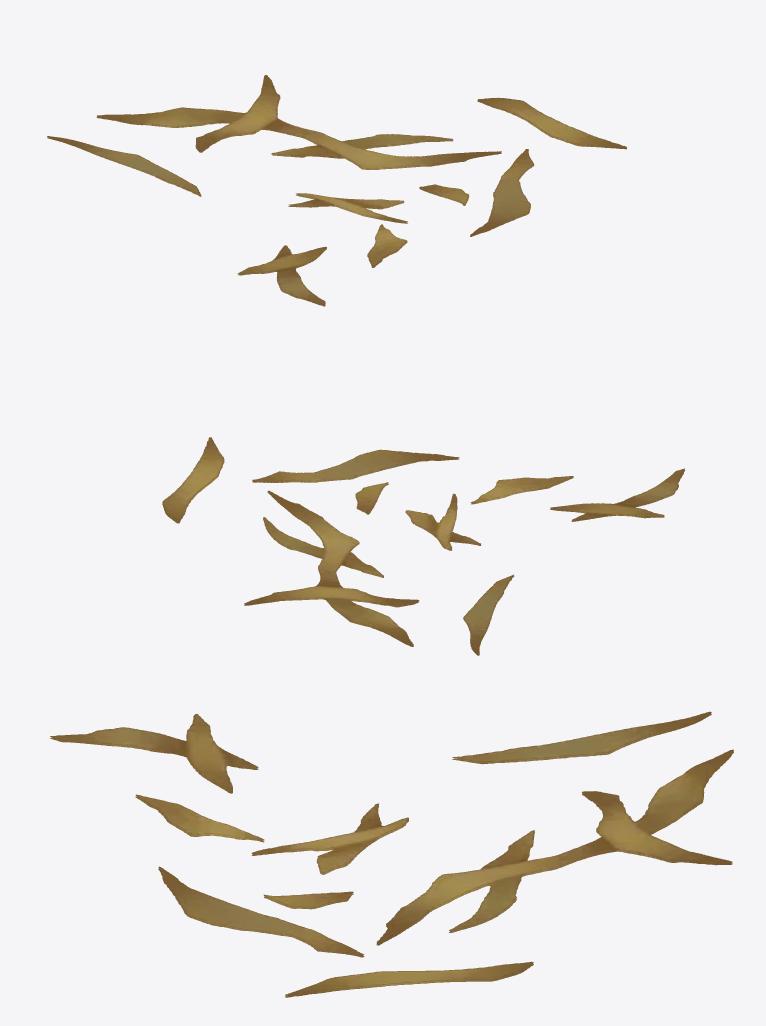
3 views of the same model, one above another, from view 1: azimuth 30°, elevation 25°; view 2: azimuth 150°, elevation 25°; view 3: azimuth 270°, elevation 25° (orthographic). The views are drawn at different scales.
Size of the model in its own units: 1.03 by 0.0385 by 1.03.
Materials: 1 (1 with a texture image).
